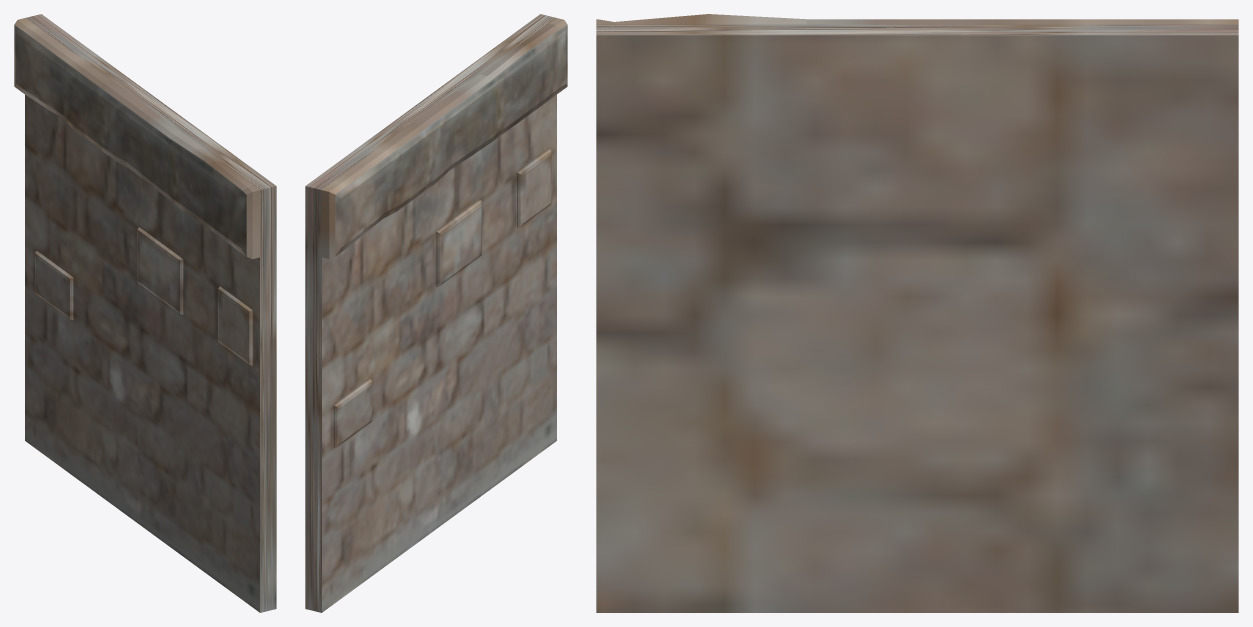
File: dungeonWall03.glb
3 views of the same model, side by side, from view 1: azimuth 30°, elevation 25°; view 2: azimuth 150°, elevation 25°; view 3: azimuth 270°, elevation 25° (orthographic). The views are drawn at different scales.
Visible parts, largest first — view 1: pared.001; view 2: pared.001; view 3: pared.001.
Boxes of the visible parts, bbox=[...] form: pared.001: bbox=[14, 14, 276, 612]; pared.001: bbox=[305, 14, 567, 612]; pared.001: bbox=[596, 14, 1238, 612].
Size of the model in its own units: 0.3 by 4 by 4.
1 material, 1 textured.
